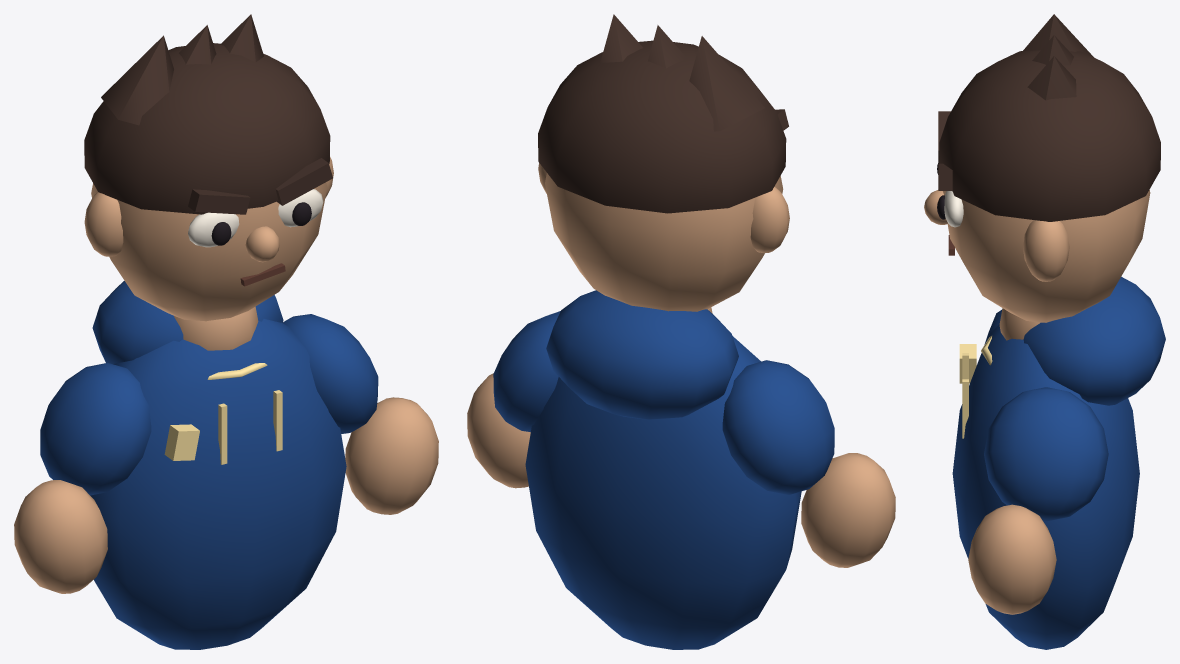
The model's file is default-male.glb.
3 renders of one model, left to right at view 1: azimuth 30°, elevation 25°; view 2: azimuth 150°, elevation 25°; view 3: azimuth 270°, elevation 25°, orthographic. The views are drawn at different scales.
Visible parts, largest first — view 1: floating-oval-body, hair-cap, sleeve (×2), mitten-hand (×2), head, angular-hair (×3), hood, fierce-brow (×2), neck, ear, eye-white (×2), shoulder-badge (+1 smaller); view 2: floating-oval-body, hair-cap, head, hood, sleeve (×2), mitten-hand (×2), angular-hair (×3), ear; view 3: hair-cap, floating-oval-body, head, sleeve, hood, mitten-hand, angular-hair (×3), ear, neck, eye-white, shoulder-badge, nose (+1 smaller).
Boxes of the visible parts, x1=… form: floating-oval-body: x1=90, y1=319, x2=346, y2=649; hair-cap: x1=84, y1=43, x2=330, y2=214; sleeve (×2): x1=40, y1=314, x2=378, y2=495; mitten-hand (×2): x1=14, y1=397, x2=438, y2=593; head: x1=91, y1=182, x2=327, y2=321; angular-hair (×3): x1=101, y1=14, x2=263, y2=125; hood: x1=92, y1=281, x2=283, y2=364; fierce-brow (×2): x1=188, y1=158, x2=332, y2=214; neck: x1=174, y1=306, x2=258, y2=350; ear: x1=84, y1=192, x2=123, y2=256; eye-white (×2): x1=188, y1=189, x2=323, y2=247; shoulder-badge: x1=164, y1=424, x2=199, y2=460; floating-oval-body: x1=525, y1=336, x2=801, y2=649; hair-cap: x1=538, y1=40, x2=786, y2=213; head: x1=545, y1=173, x2=783, y2=311; hood: x1=546, y1=290, x2=738, y2=419; sleeve (×2): x1=493, y1=311, x2=834, y2=494; mitten-hand (×2): x1=467, y1=373, x2=895, y2=567; angular-hair (×3): x1=600, y1=14, x2=764, y2=131; ear: x1=750, y1=186, x2=789, y2=253; hair-cap: x1=939, y1=50, x2=1160, y2=221; floating-oval-body: x1=952, y1=324, x2=1139, y2=649; head: x1=943, y1=190, x2=1150, y2=322; sleeve: x1=984, y1=387, x2=1108, y2=521; hood: x1=1023, y1=276, x2=1165, y2=405; mitten-hand: x1=968, y1=504, x2=1056, y2=614; angular-hair (×3): x1=1023, y1=14, x2=1093, y2=100; ear: x1=1023, y1=220, x2=1069, y2=281; neck: x1=999, y1=308, x2=1039, y2=340; eye-white: x1=944, y1=191, x2=963, y2=227; shoulder-badge: x1=959, y1=344, x2=976, y2=383; nose: x1=924, y1=190, x2=947, y2=224.
Size of the model in its own units: 1.8 by 2.57 by 0.93.
